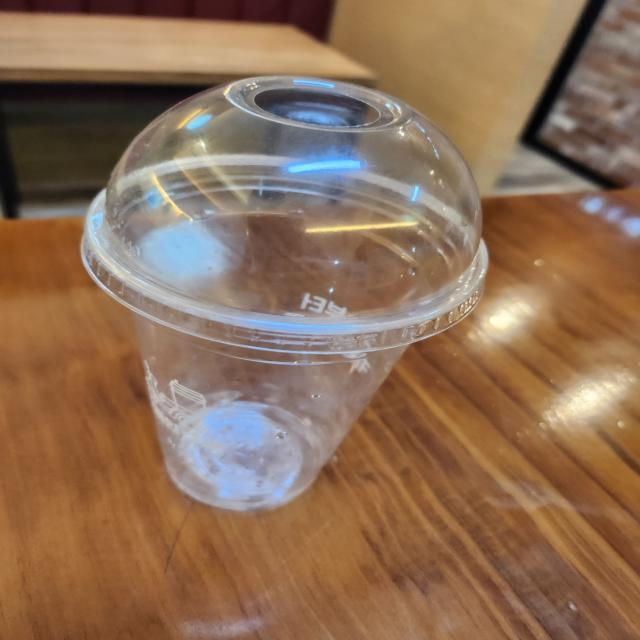plastic_cup_lid: (83, 64, 503, 366)
